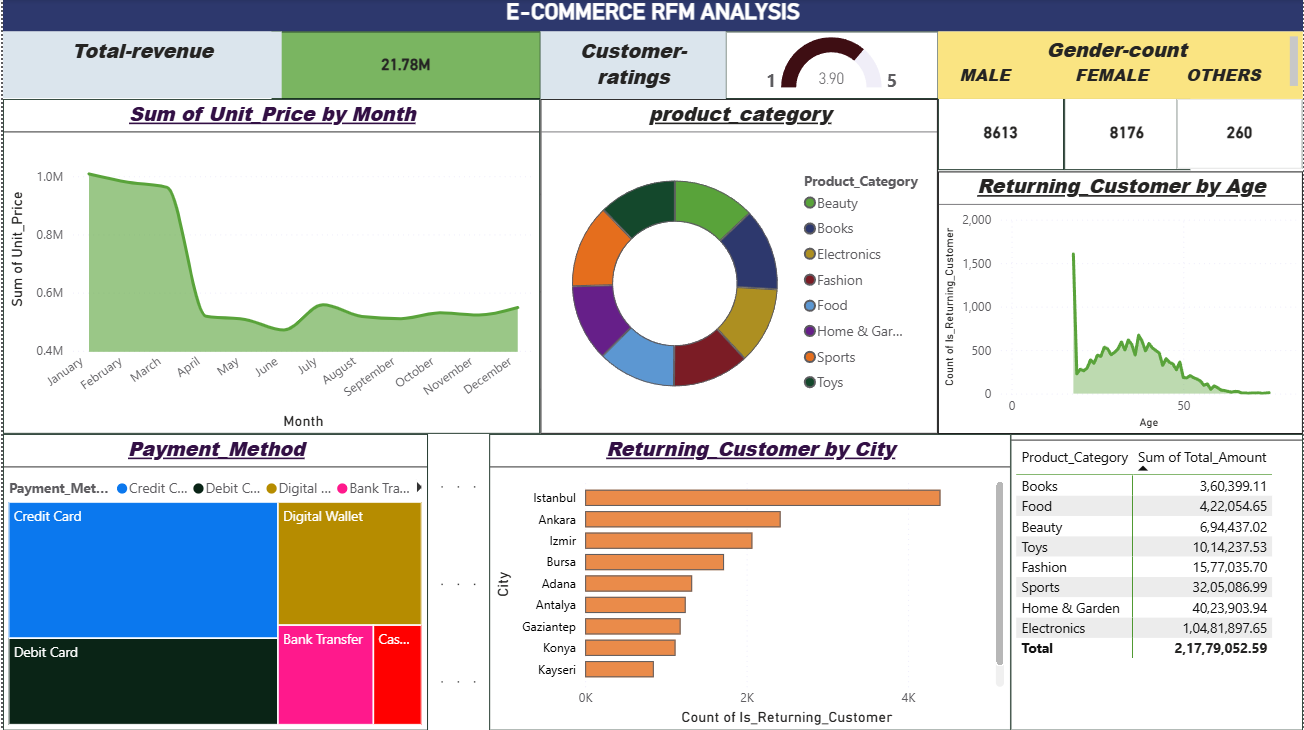

What the dashboard file says about the page in this screenshot:
{"tool":"powerbi","page":{"name":"Page 1","canvas":[1280,720],"ordinal":0},"visuals":[{"type":"textbox","box":[9.6,0,1270.7,43.9],"z":0},{"type":"textbox","title":"E-COMMERCE RFM ANALYSIS","box":[10,22.5,1270,36.2],"z":1000},{"type":"barChart","fields":{"Category":["ecommerce.Date.Variation.Date Hierarchy.Month"],"Y":["CountNonNull(ecommerce.Product_Category)"]},"box":[0,348.3,328.6,371.7],"z":2000},{"type":"donutChart","fields":{"Y":["CountNonNull(ecommerce.Product_Category)"],"Series":["ecommerce.Product_Category"]},"box":[0,70.2,416,264.6],"z":3000},{"type":"lineChart","fields":{"Category":["ecommerce.Age"],"Y":["CountNonNull(ecommerce.Is_Returning_Customer)"]},"box":[335.2,347.8,459.3,372.2],"z":4000},{"type":"card","fields":{"Values":["CountNonNull(ecommerce.Gender)"]},"box":[489.7,265.7,69.6,69.6],"z":5000},{"type":"card","fields":{"Values":["CountNonNull(ecommerce.Gender)","select"]},"box":[427.1,263,62.6,72.3],"z":6000},{"type":"card","fields":{"Values":["CountNonNull(ecommerce.Gender)"]},"box":[559.3,265.7,71,69.6],"z":7000},{"type":"card","fields":{"Values":["Min(ecommerce.Gender)"]},"box":[427.1,185,62.6,80.7],"z":8000},{"type":"card","fields":{"Values":["Min(ecommerce.Gender)"]},"box":[489.7,185,69.6,80.7],"z":9000},{"type":"card","fields":{"Values":["Max(ecommerce.Gender)"]},"box":[559.3,185,71,80.7],"z":10000},{"type":"textbox","box":[426.9,116.7,203.7,68.5],"z":11000},{"type":"card","fields":{"Values":["Sum(ecommerce.Total_Amount)"]},"box":[1076.9,250.4,190.6,83.5],"z":12000},{"type":"gauge","fields":{"Y":["Avg(ecommerce.Customer_Rating)"],"MinValue":["Min(ecommerce.Customer_Rating)"],"MaxValue":["Max(ecommerce.Customer_Rating)"]},"box":[1076.9,132.2,190.6,83.5],"z":13000},{"type":"pieChart","title":"Payment_Method","fields":{"Category":["ecommerce.Payment_Method"],"Y":["CountNonNull(ecommerce.Payment_Method)"],"Series":["ecommerce.Payment_Method"]},"box":[640,68.2,432.7,265.7],"z":14000},{"type":"textbox","box":[1075.5,68.2,190.6,64],"z":15000},{"type":"columnChart","title":"Returning_Customer by City","fields":{"Y":["CountNonNull(ecommerce.Is_Returning_Customer)"],"Category":["ecommerce.City"]},"box":[795.7,349.3,484.1,302.9],"z":16000},{"type":"textbox","box":[1076.9,215.7,189.8,34.3],"z":17000},{"type":"card","fields":{"Values":["CountNonNull(ecommerce.Is_Returning_Customer)"]},"box":[1024.6,652.2,255.1,68.1],"z":18000},{"type":"textbox","box":[796.2,652.5,241.2,67.5],"z":19000}]}

Visuals, with their boxes in screenshot pixels (x1, y1, x2, y2), scaled from the page's 1280x720 canvas onto the 1304x730 screenshot:
textbox: detection(10, 0, 1303, 45)
"E-COMMERCE RFM ANALYSIS" textbox: detection(10, 23, 1303, 60)
barChart - ecommerce.Date.Variation.Date Hierarchy.Month x CountNonNull(ecommerce.Product_Category): detection(0, 353, 335, 729)
donutChart - CountNonNull(ecommerce.Product_Category) x ecommerce.Product_Category: detection(0, 71, 424, 339)
lineChart - ecommerce.Age x CountNonNull(ecommerce.Is_Returning_Customer): detection(341, 353, 809, 729)
card - CountNonNull(ecommerce.Gender): detection(499, 269, 570, 340)
card - CountNonNull(ecommerce.Gender) x select: detection(435, 267, 499, 340)
card - CountNonNull(ecommerce.Gender): detection(570, 269, 642, 340)
card - Min(ecommerce.Gender): detection(435, 188, 499, 269)
card - Min(ecommerce.Gender): detection(499, 188, 570, 269)
card - Max(ecommerce.Gender): detection(570, 188, 642, 269)
textbox: detection(435, 118, 642, 188)
card - Sum(ecommerce.Total_Amount): detection(1097, 254, 1291, 339)
gauge - Avg(ecommerce.Customer_Rating) x Min(ecommerce.Customer_Rating): detection(1097, 134, 1291, 219)
"Payment_Method" pieChart: detection(652, 69, 1093, 339)
textbox: detection(1096, 69, 1290, 134)
"Returning_Customer by City" columnChart: detection(811, 354, 1303, 661)
textbox: detection(1097, 219, 1290, 253)
card - CountNonNull(ecommerce.Is_Returning_Customer): detection(1044, 661, 1303, 729)
textbox: detection(811, 662, 1057, 729)
